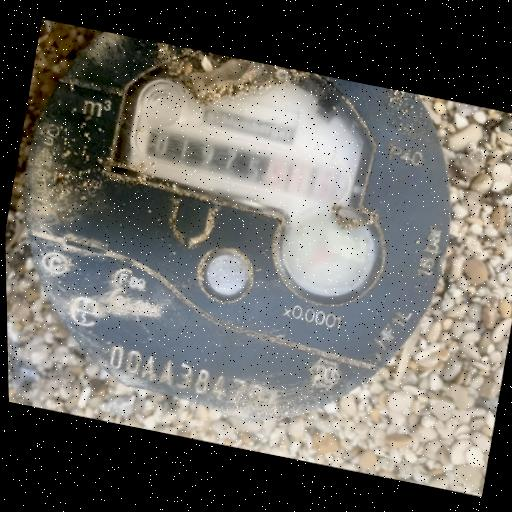0: (146, 127, 175, 162)
1: (287, 162, 312, 198), (172, 132, 198, 166)
2: (311, 169, 335, 202)
5: (238, 150, 268, 187), (261, 156, 291, 193)
7: (215, 144, 243, 180)
9: (193, 137, 221, 174)
border_water_meter_number: (123, 112, 353, 214)
